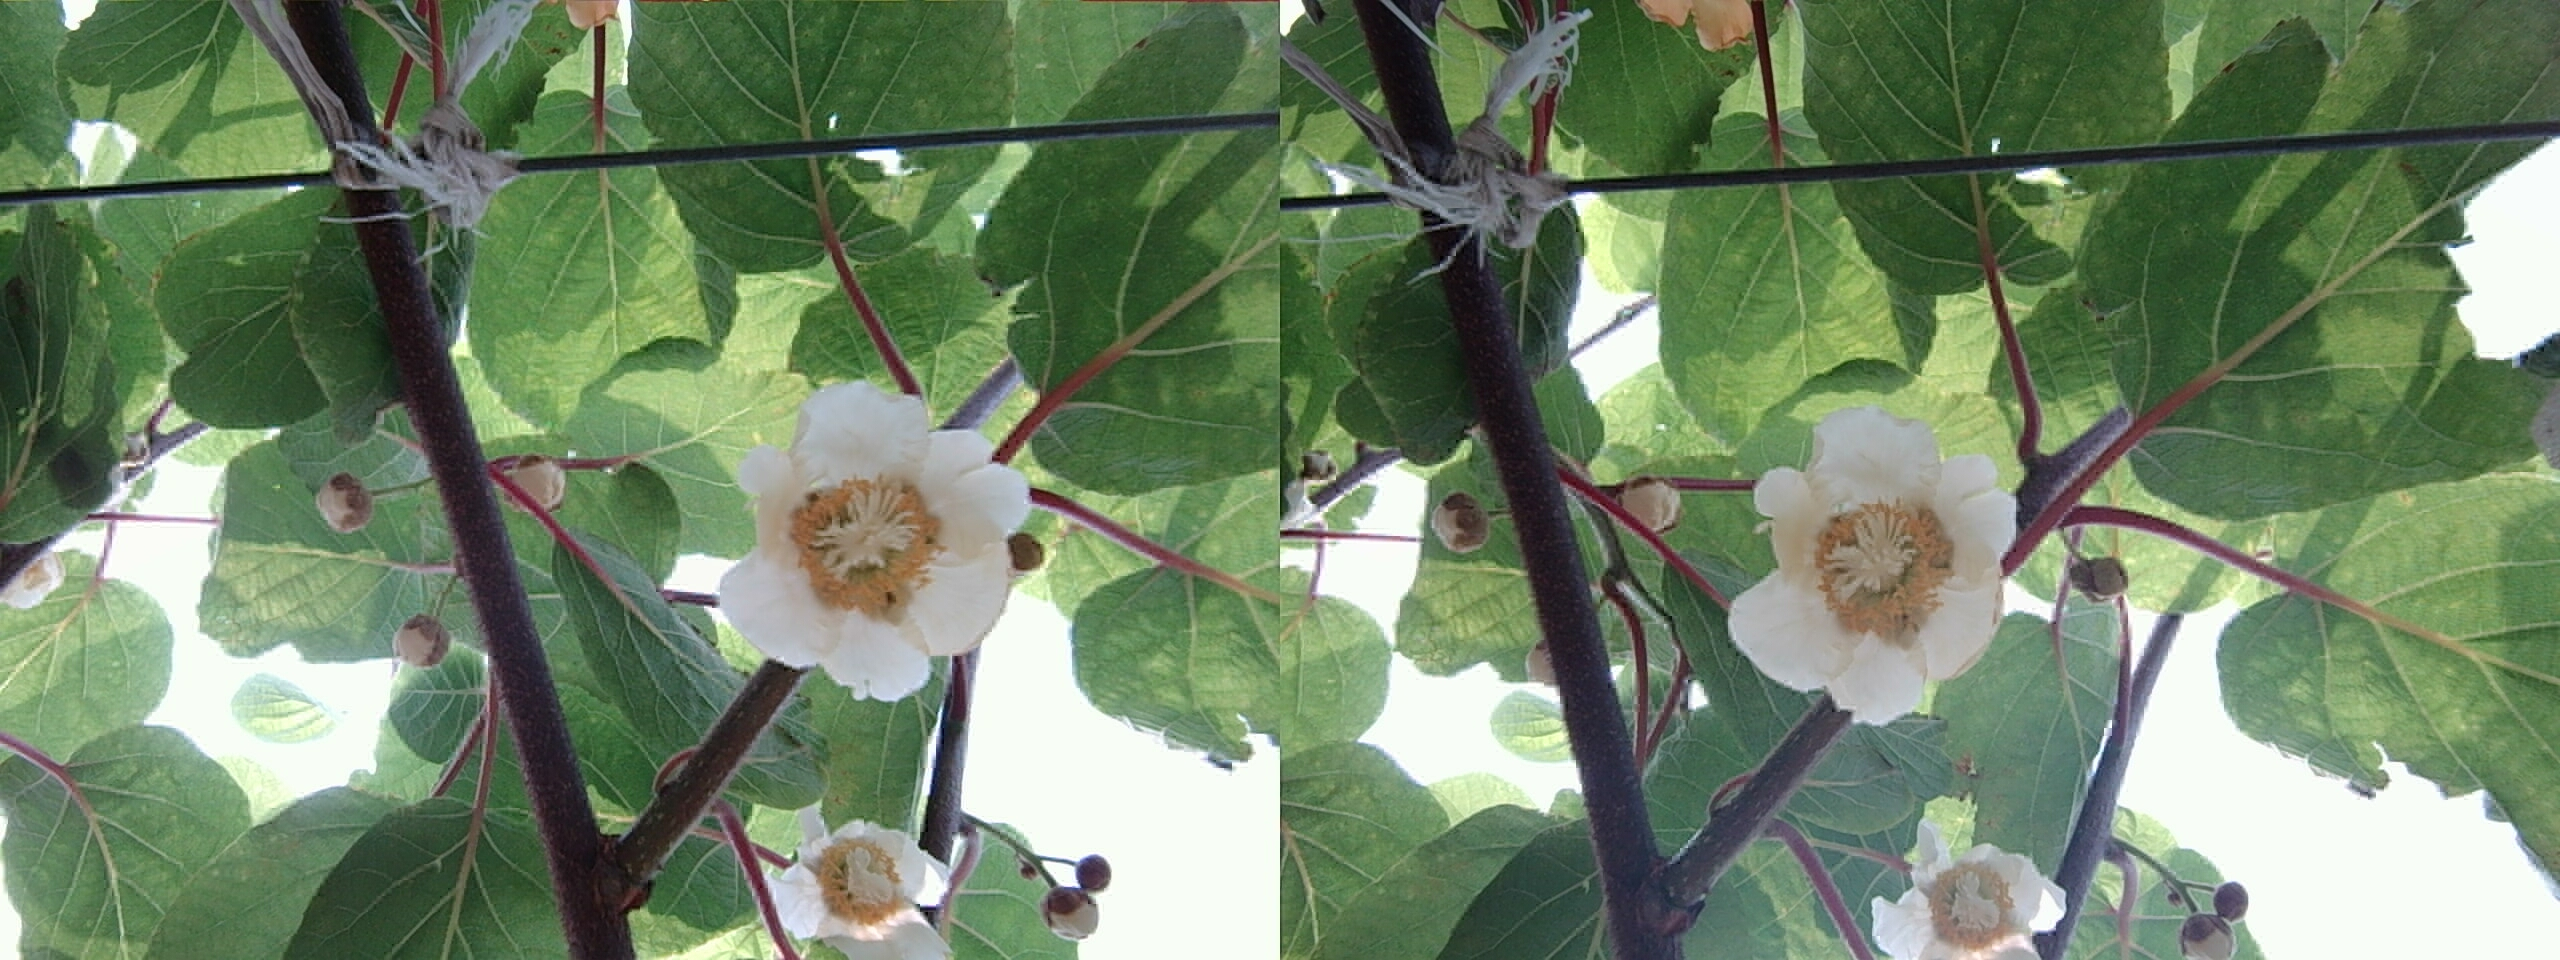flower: (718, 385, 1025, 692), (1731, 402, 2015, 717), (1874, 834, 2044, 955), (780, 821, 952, 939)
